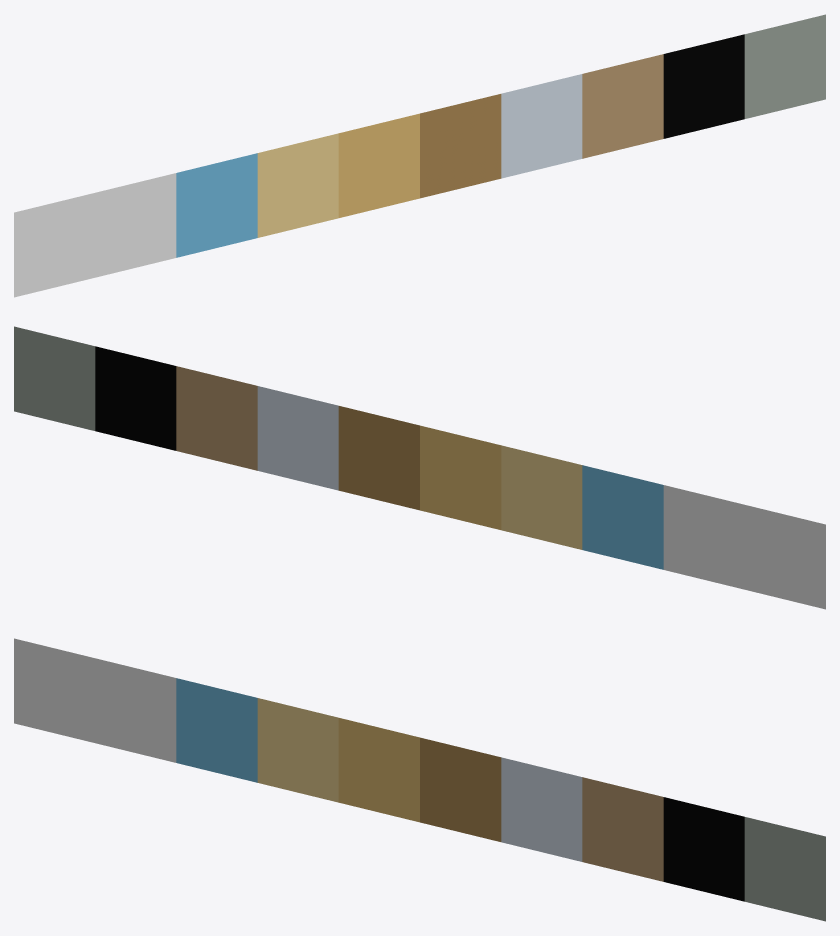
File: pbr.gltf
The picture shows the model from 3 angles, top to bottom: view 1: azimuth 30°, elevation 25°; view 2: azimuth 150°, elevation 25°; view 3: azimuth 330°, elevation 25°; orthographic projection.
Bounding box in the file's own units: 20 × 2 × 0.
